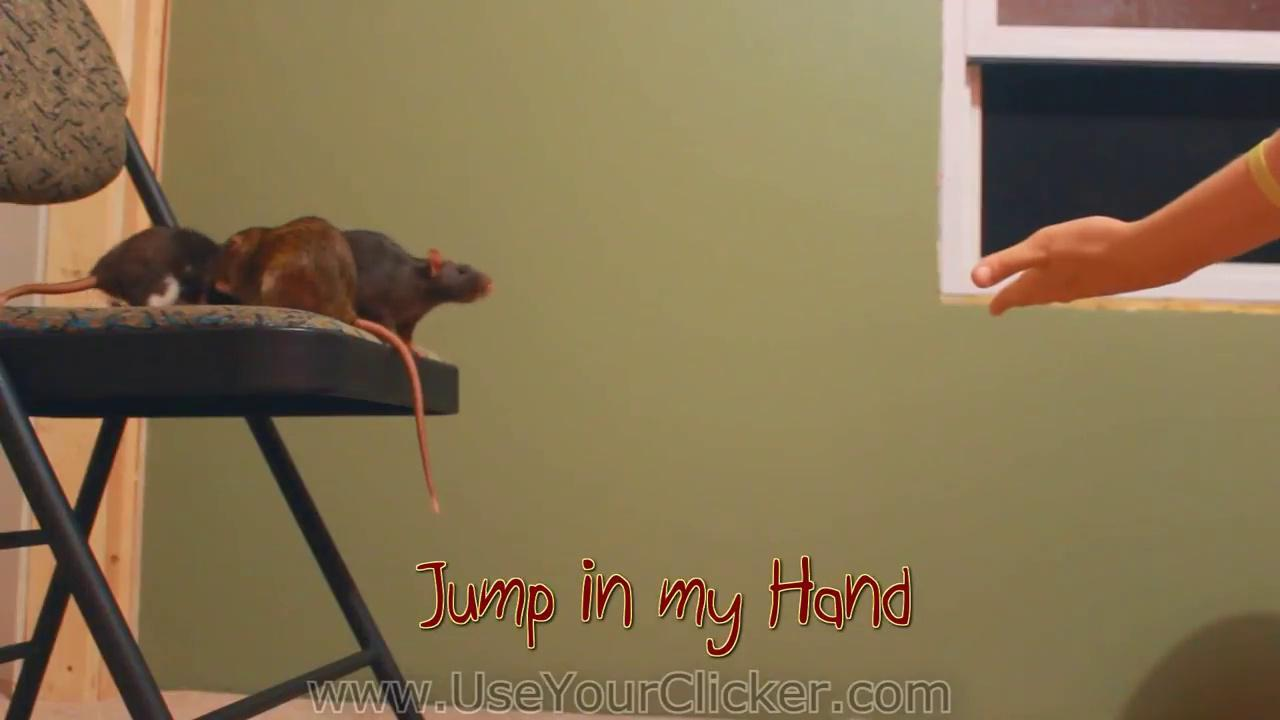rat: (220, 218, 436, 510), (0, 225, 218, 305), (343, 229, 492, 343)
